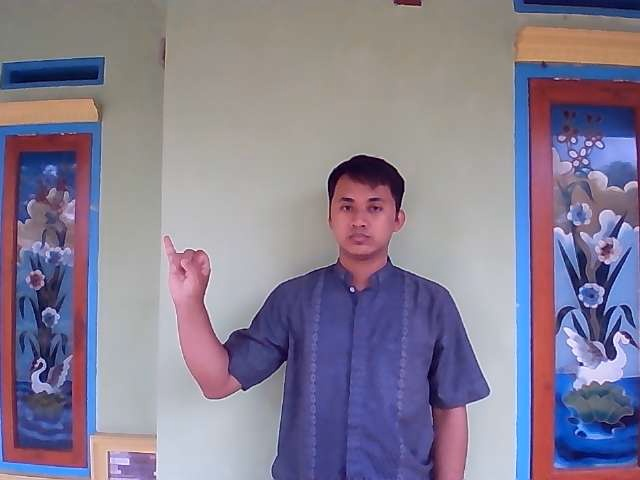I: (162, 231, 212, 294)
